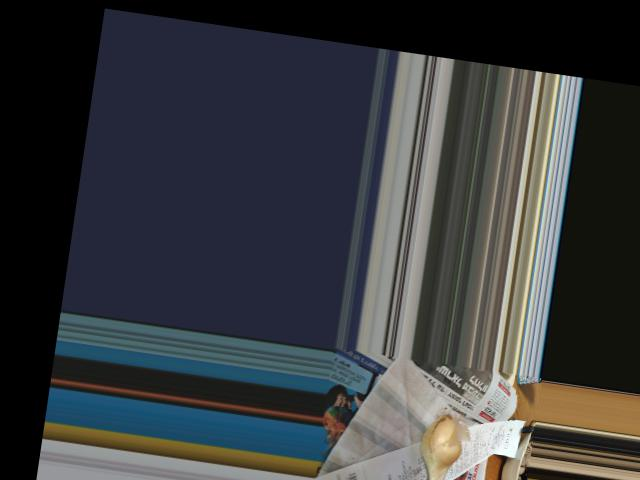onion: (406, 412, 468, 480)
